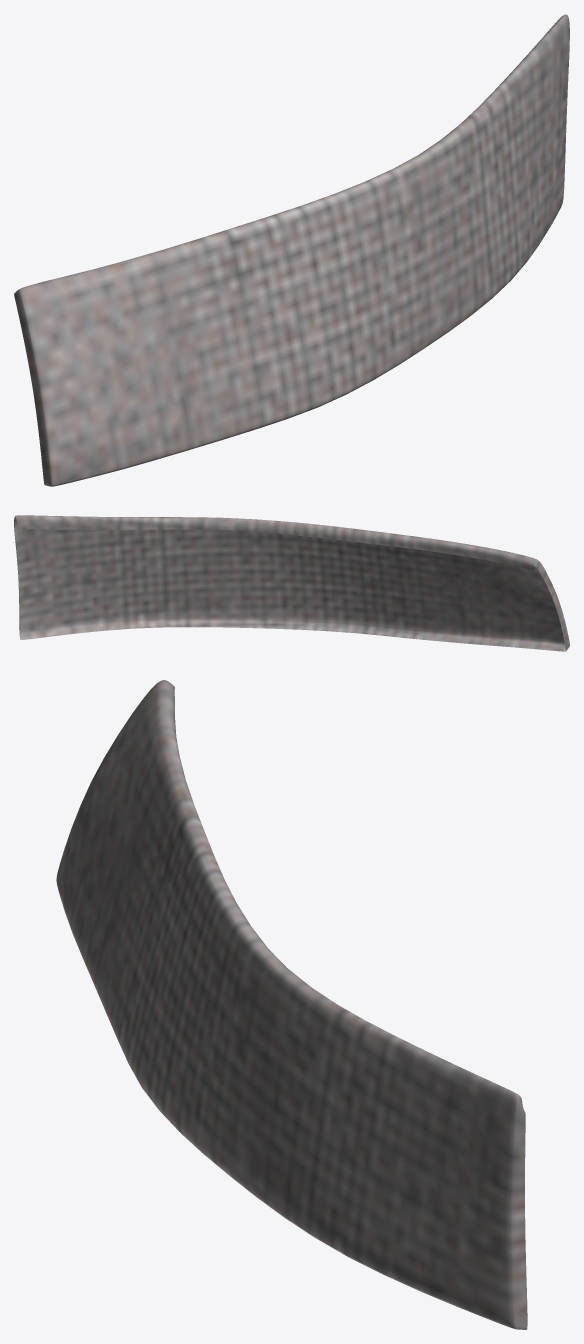
Rendered from upper_pocket.glb.
The picture shows the model from 3 angles, top to bottom: view 1: azimuth 30°, elevation 25°; view 2: azimuth 150°, elevation 25°; view 3: azimuth 270°, elevation 25°; orthographic projection. The views are drawn at different scales.
Visible parts, largest first — view 1: upper_pocket; view 2: upper_pocket; view 3: upper_pocket.
Boxes of the visible parts, <box> form: upper_pocket: <box>14,14,569,486</box>; upper_pocket: <box>14,515,569,651</box>; upper_pocket: <box>56,680,527,1329</box>.
Size of the model in its own units: 0.0125 by 0.00331 by 0.00577.
1 material, 1 textured.
